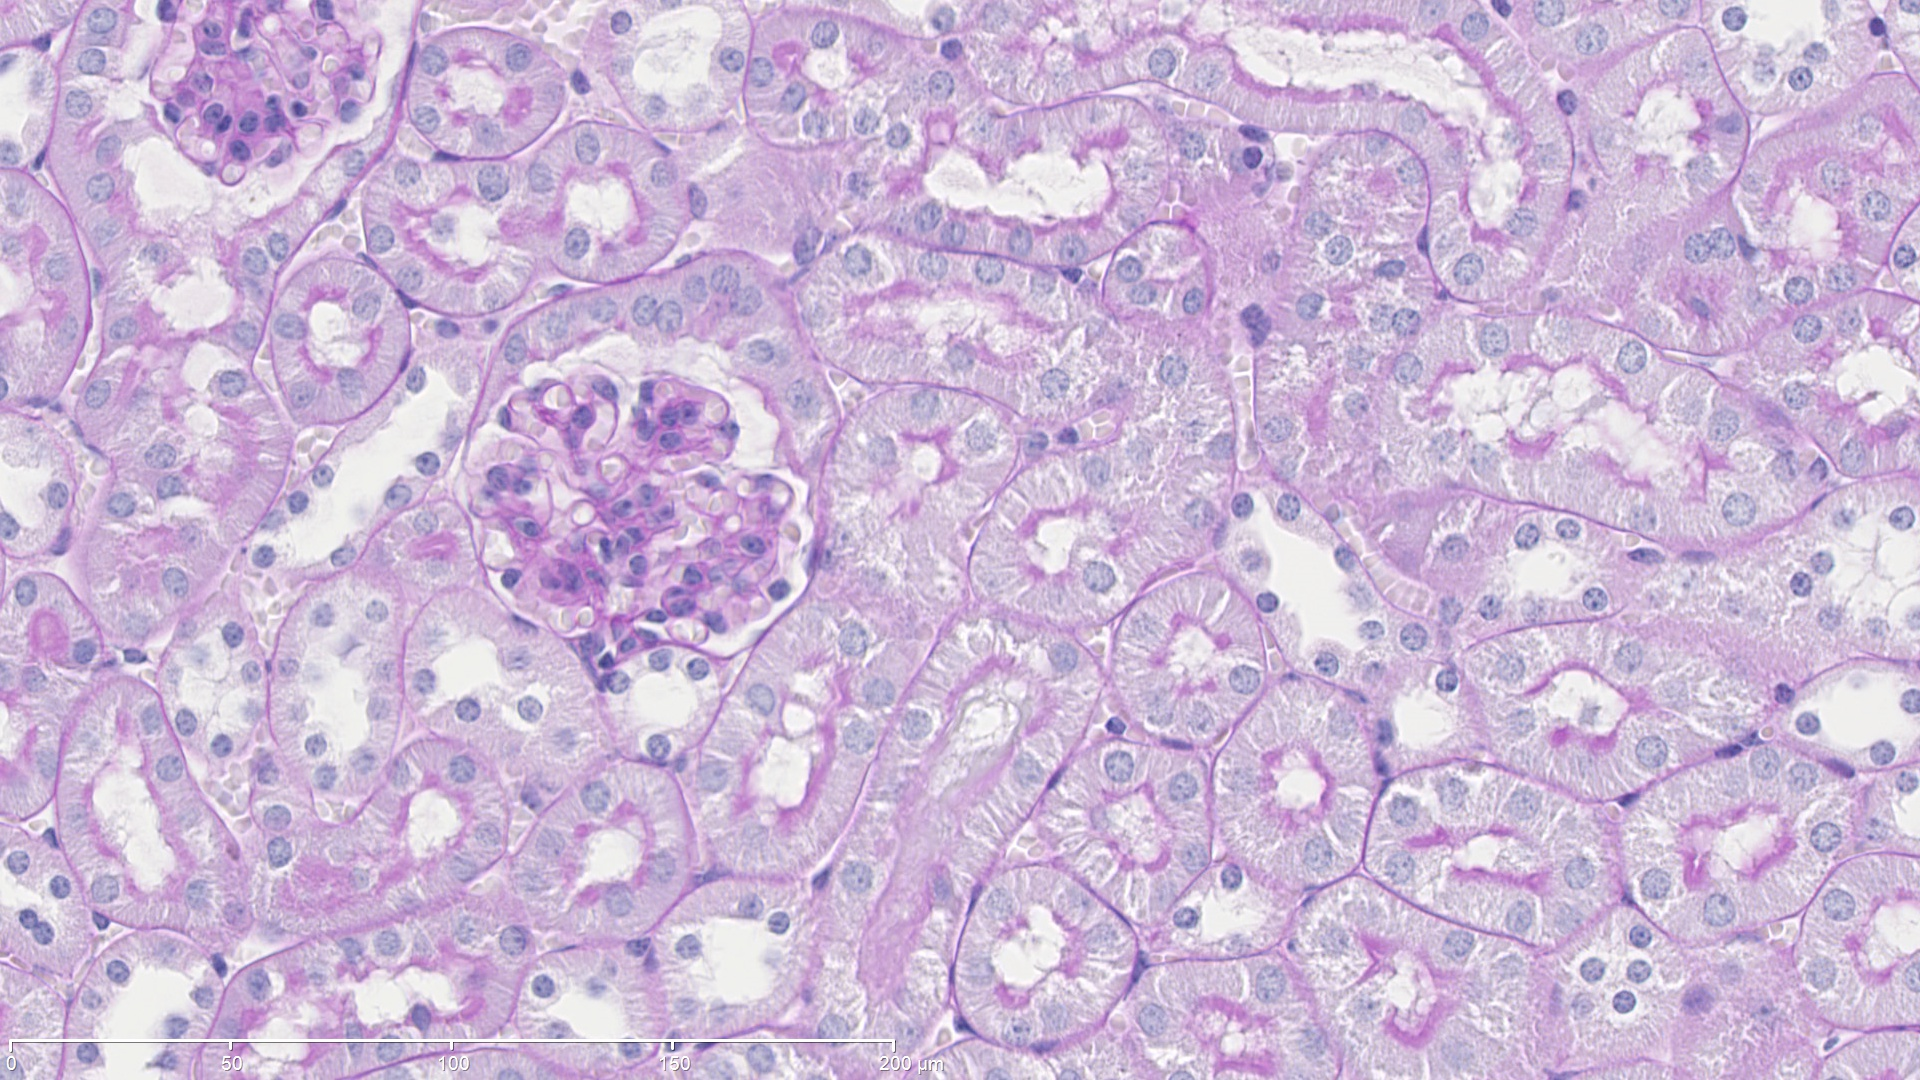Glomeruli: (452, 324, 843, 673), (142, 3, 389, 195)
